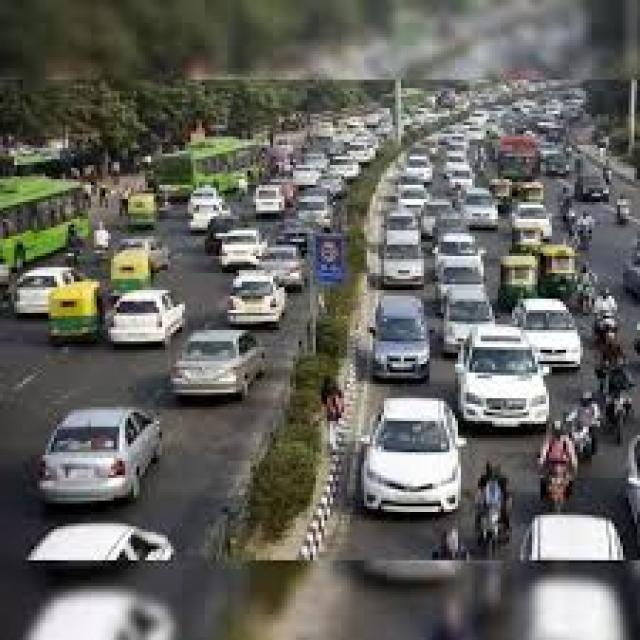Vehicles: (28, 392, 189, 522), (348, 383, 471, 531), (447, 325, 549, 437), (165, 321, 284, 412), (101, 275, 207, 375), (3, 176, 111, 273), (371, 276, 442, 401), (152, 136, 263, 208), (518, 288, 594, 377), (378, 218, 442, 314), (430, 285, 505, 366), (92, 226, 170, 302), (527, 228, 601, 302), (34, 277, 114, 342), (231, 266, 293, 341), (495, 136, 558, 206), (181, 189, 238, 247), (390, 183, 454, 234), (455, 191, 513, 242), (462, 505, 506, 572), (498, 245, 544, 304), (434, 230, 477, 293), (218, 230, 278, 274), (257, 243, 309, 290), (501, 198, 553, 242), (539, 457, 579, 514), (602, 370, 628, 450), (561, 212, 597, 266), (568, 422, 600, 482), (589, 310, 623, 364), (252, 189, 292, 224), (576, 168, 616, 203), (621, 235, 640, 295), (611, 202, 640, 235)
